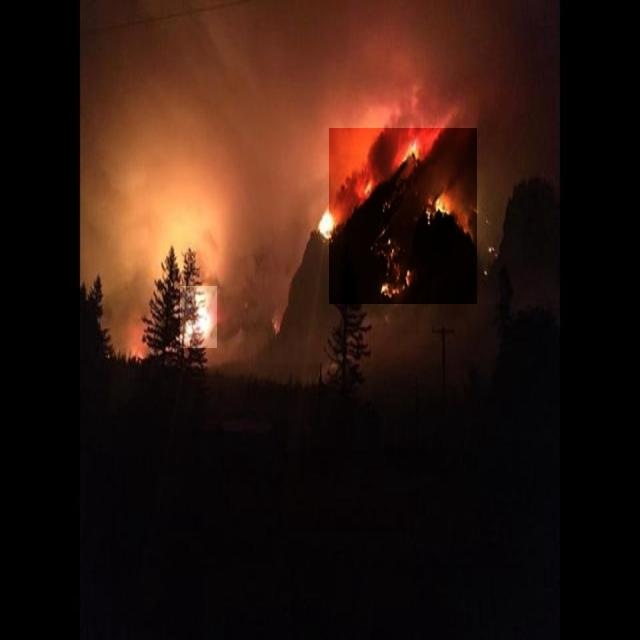Fire: (329, 128, 477, 304), (180, 286, 217, 348)
Smoke: (78, 0, 582, 362)
